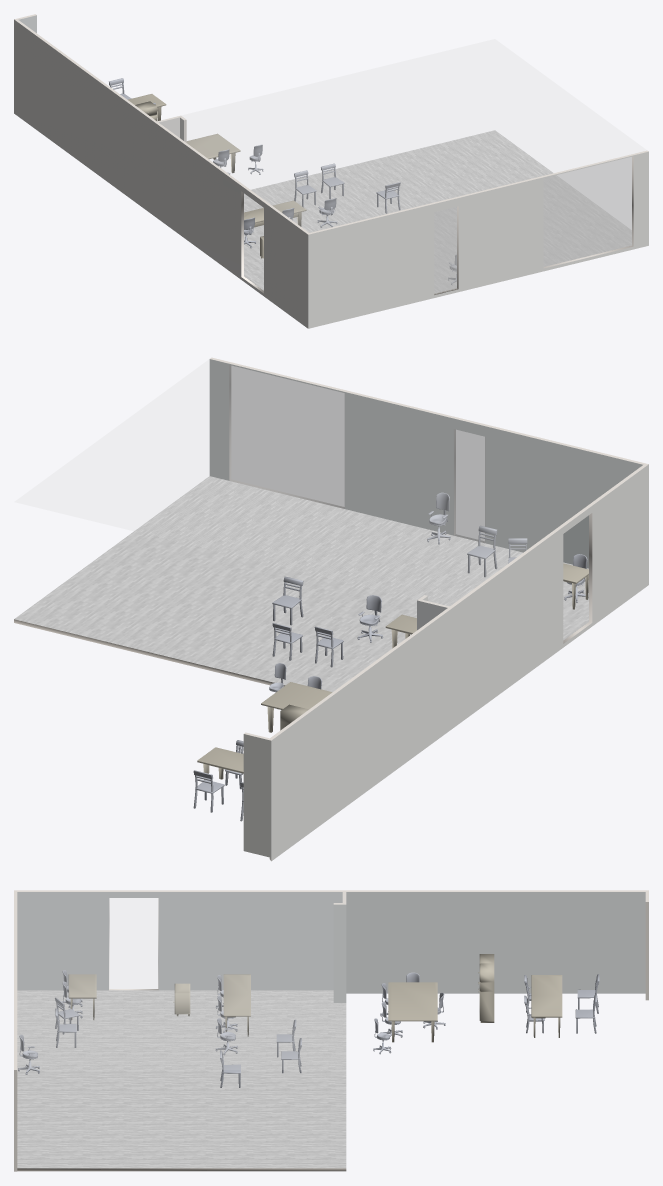
File: Staff room p3, continue.fbx
3 views of the same model, one above another, from view 1: azimuth 30°, elevation 25°; view 2: azimuth 150°, elevation 25°; view 3: azimuth 270°, elevation 25° (orthographic). The views are drawn at different scales.
Visible parts, largest first — view 1: node_26b6d54d_53ce_4fc5_a7df_098405675b84_mesh0, node_59f63054_5f3f_4595_a938_184b9f96a243_mesh0, node_9c07da2a_96d0_4932_99e9_c4a0073d01d0_mesh0, node_f5641f6f_8ed0_469c_9b21_c85ebaa3d51f_mesh0, node_bec9bc3d_23fa_4ab0_b062_5de9c09ff255_mesh0, node_d99d6620_68aa_43fd_b654_b102f0272743_mesh0, node_ece9299e_ff7b_45cb_998e_6d1ae2da869d_mesh0, node_3fed2d14_72de_47f7_badb_f7b8a634188d_mesh0, node_46bd1dd0_207d_483a_a78b_be7827b551d4_mesh0, node_4f5cceef_f014_4931_8f04_d452a768c77d_mesh0, node_7d110e28_37f5_4cf6_bbf6_d3343ef62833_mesh0, node_74e1060e_905f_4dc6_ba89_5822609ac303_mesh0 (+2 smaller); view 2: node_26b6d54d_53ce_4fc5_a7df_098405675b84_mesh0, node_f5641f6f_8ed0_469c_9b21_c85ebaa3d51f_mesh0, node_59f63054_5f3f_4595_a938_184b9f96a243_mesh0, node_a75e6d9b_4ed8_4ac2_ab5f_ff5e50f36435_mesh0, node_bec9bc3d_23fa_4ab0_b062_5de9c09ff255_mesh0, node_d99d6620_68aa_43fd_b654_b102f0272743_mesh0, node_ece9299e_ff7b_45cb_998e_6d1ae2da869d_mesh0, node_aa61fa01_6921_4619_bafc_8dbb6f096069_mesh0, node_3fed2d14_72de_47f7_badb_f7b8a634188d_mesh0, node_46bd1dd0_207d_483a_a78b_be7827b551d4_mesh0, node_4f5cceef_f014_4931_8f04_d452a768c77d_mesh0, node_7d110e28_37f5_4cf6_bbf6_d3343ef62833_mesh0 (+3 smaller); view 3: node_f5641f6f_8ed0_469c_9b21_c85ebaa3d51f_mesh0, node_26b6d54d_53ce_4fc5_a7df_098405675b84_mesh0, node_3bd1b2c9_1728_4189_a4dd_c22e58b373b1_mesh0, node_aab18539_1c08_4d1d_ada3_d69fd795a194_mesh0, node_ece9299e_ff7b_45cb_998e_6d1ae2da869d_mesh0, node_7d110e28_37f5_4cf6_bbf6_d3343ef62833_mesh0, node_3f9238c6_f3bb_42ca_b0ce_1ac531b74a44_mesh0, node_df06005a_ca7b_4942_a145_1743f93f9ca5_mesh0, node_6dd85f31_f31c_4eb2_8abd_82687fe47e83_mesh0, node_55b2bae7_558d_4caf_bdb9_69056e747f14_mesh0, node_4f5cceef_f014_4931_8f04_d452a768c77d_mesh0, node_12b9a6d8_f912_4b0d_9b1c_3960e096161a_mesh0 (+3 smaller).
Part boxes in pixels (x1,y1,x2,y2): node_26b6d54d_53ce_4fc5_a7df_098405675b84_mesh0: (182, 39, 645, 226); node_59f63054_5f3f_4595_a938_184b9f96a243_mesh0: (14, 19, 308, 328); node_9c07da2a_96d0_4932_99e9_c4a0073d01d0_mesh0: (308, 151, 648, 328); node_f5641f6f_8ed0_469c_9b21_c85ebaa3d51f_mesh0: (244, 130, 631, 293); node_bec9bc3d_23fa_4ab0_b062_5de9c09ff255_mesh0: (544, 157, 631, 266); node_d99d6620_68aa_43fd_b654_b102f0272743_mesh0: (544, 157, 631, 266); node_ece9299e_ff7b_45cb_998e_6d1ae2da869d_mesh0: (158, 116, 331, 232); node_3fed2d14_72de_47f7_badb_f7b8a634188d_mesh0: (434, 207, 456, 293); node_46bd1dd0_207d_483a_a78b_be7827b551d4_mesh0: (434, 207, 456, 292); node_4f5cceef_f014_4931_8f04_d452a768c77d_mesh0: (14, 19, 308, 234); node_7d110e28_37f5_4cf6_bbf6_d3343ef62833_mesh0: (186, 133, 240, 173); node_74e1060e_905f_4dc6_ba89_5822609ac303_mesh0: (308, 150, 648, 234); node_26b6d54d_53ce_4fc5_a7df_098405675b84_mesh0: (15, 359, 611, 599); node_f5641f6f_8ed0_469c_9b21_c85ebaa3d51f_mesh0: (14, 476, 588, 692); node_59f63054_5f3f_4595_a938_184b9f96a243_mesh0: (271, 464, 648, 860); node_a75e6d9b_4ed8_4ac2_ab5f_ff5e50f36435_mesh0: (209, 359, 642, 568); node_bec9bc3d_23fa_4ab0_b062_5de9c09ff255_mesh0: (229, 365, 344, 508); node_d99d6620_68aa_43fd_b654_b102f0272743_mesh0: (229, 365, 344, 508); node_ece9299e_ff7b_45cb_998e_6d1ae2da869d_mesh0: (418, 458, 641, 607); node_aa61fa01_6921_4619_bafc_8dbb6f096069_mesh0: (243, 734, 271, 857); node_3fed2d14_72de_47f7_badb_f7b8a634188d_mesh0: (454, 429, 485, 542); node_46bd1dd0_207d_483a_a78b_be7827b551d4_mesh0: (454, 429, 485, 542); node_4f5cceef_f014_4931_8f04_d452a768c77d_mesh0: (270, 464, 648, 740); node_7d110e28_37f5_4cf6_bbf6_d3343ef62833_mesh0: (261, 682, 332, 732); node_f5641f6f_8ed0_469c_9b21_c85ebaa3d51f_mesh0: (17, 990, 346, 1168); node_26b6d54d_53ce_4fc5_a7df_098405675b84_mesh0: (18, 905, 345, 1069); node_3bd1b2c9_1728_4189_a4dd_c22e58b373b1_mesh0: (346, 892, 645, 993); node_aab18539_1c08_4d1d_ada3_d69fd795a194_mesh0: (17, 892, 342, 990); node_ece9299e_ff7b_45cb_998e_6d1ae2da869d_mesh0: (18, 892, 345, 903); node_7d110e28_37f5_4cf6_bbf6_d3343ef62833_mesh0: (388, 982, 437, 1042); node_3f9238c6_f3bb_42ca_b0ce_1ac531b74a44_mesh0: (531, 975, 562, 1037); node_df06005a_ca7b_4942_a145_1743f93f9ca5_mesh0: (333, 904, 346, 1002); node_6dd85f31_f31c_4eb2_8abd_82687fe47e83_mesh0: (17, 1168, 346, 1171); node_55b2bae7_558d_4caf_bdb9_69056e747f14_mesh0: (223, 974, 250, 1036); node_4f5cceef_f014_4931_8f04_d452a768c77d_mesh0: (14, 890, 648, 891); node_12b9a6d8_f912_4b0d_9b1c_3960e096161a_mesh0: (478, 954, 494, 1022).
Size of the model in its own units: 1246 by 329 by 1864.
12 materials, 1 textured.
